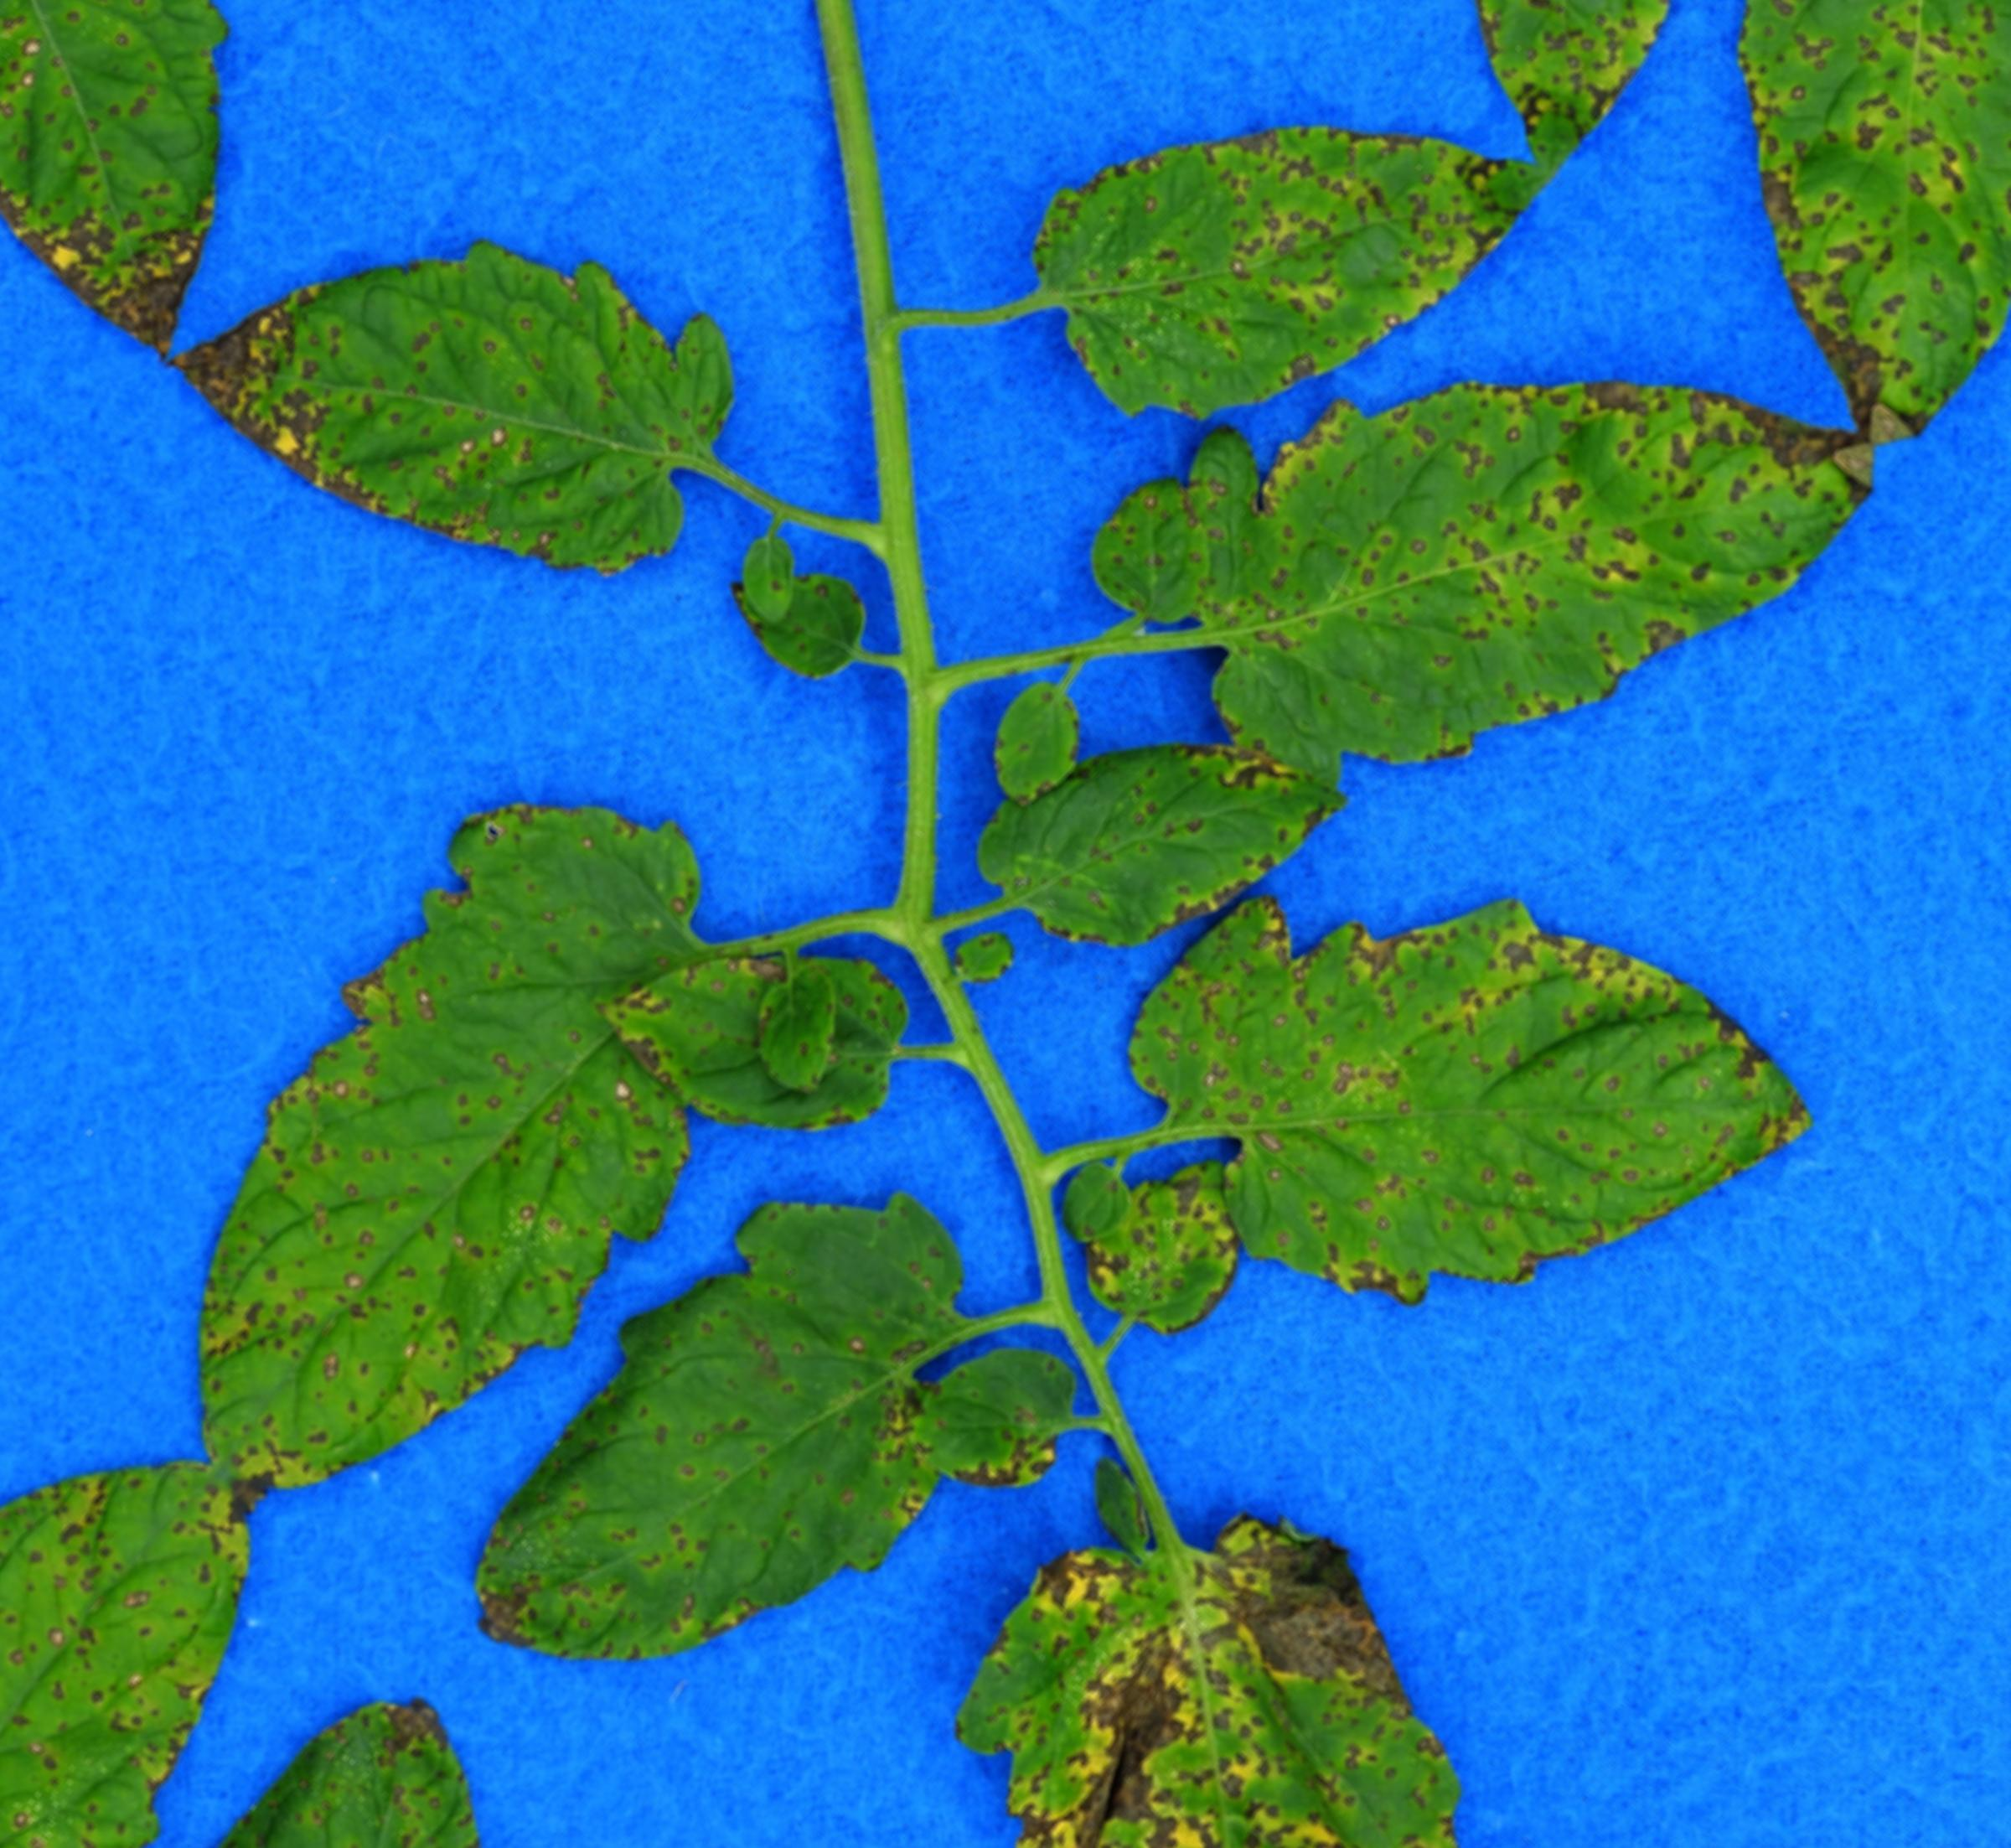Tomato Septoria leaf spot: (40, 631, 960, 1608), (1053, 123, 1901, 986), (368, 1081, 1177, 1848), (1053, 701, 1843, 1482), (144, 60, 830, 743), (778, 1365, 1633, 1848), (944, 0, 1568, 569), (948, 632, 1359, 1049), (575, 837, 988, 1240)
